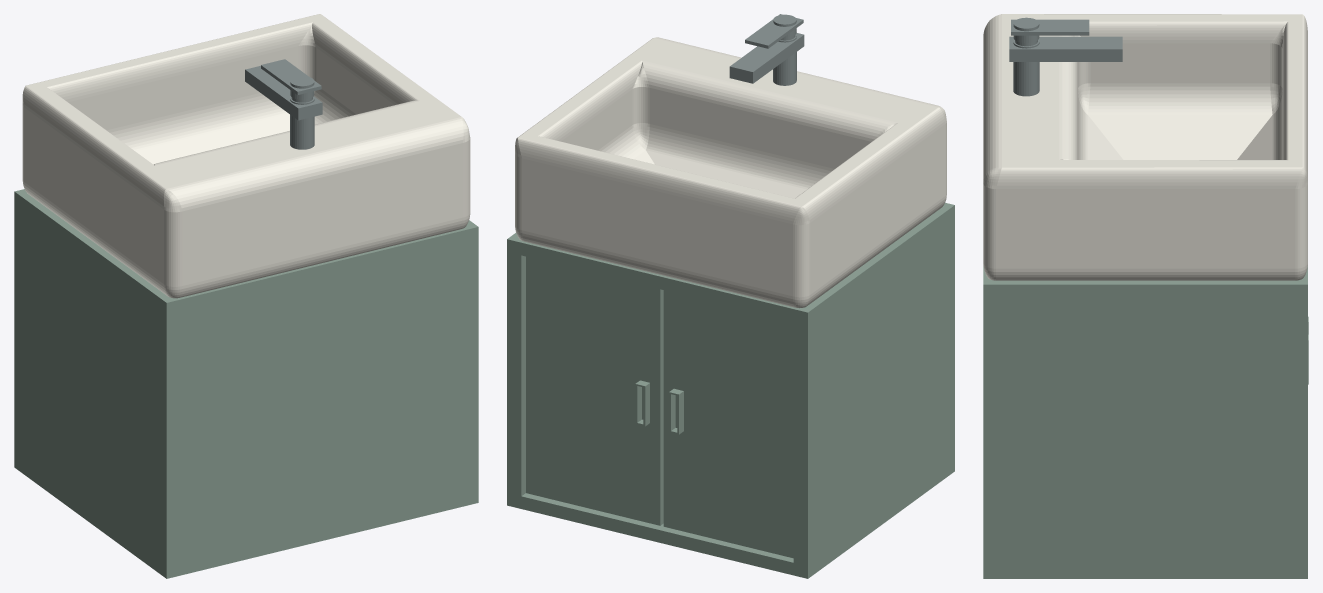
The model's file is BathSink.fbx.
3 views of the same model, side by side, from view 1: azimuth 30°, elevation 25°; view 2: azimuth 150°, elevation 25°; view 3: azimuth 270°, elevation 25° (orthographic). The views are drawn at different scales.
Visible parts, largest first — view 1: Vanity, Basin, TapSpout, TapStem, TapHandle; view 2: Vanity, Basin, TapSpout, TapStem, TapHandle; view 3: Vanity, Basin, TapSpout, TapStem, TapHandle.
Boxes of the visible parts, <box> form: Vanity: <box>14,189,478,578</box>; Basin: <box>22,14,470,298</box>; TapSpout: <box>245,65,322,120</box>; TapStem: <box>290,76,314,149</box>; TapHandle: <box>261,59,321,95</box>; Vanity: <box>507,202,954,578</box>; Basin: <box>515,37,946,308</box>; TapSpout: <box>729,33,804,83</box>; TapStem: <box>773,14,796,85</box>; TapHandle: <box>745,14,803,48</box>; Vanity: <box>983,266,1308,578</box>; Basin: <box>983,14,1307,280</box>; TapSpout: <box>1009,36,1122,61</box>; TapStem: <box>1013,17,1039,96</box>; TapHandle: <box>1011,19,1089,35</box>.
Size of the model in its own units: 82.88 by 113 by 70.23.
